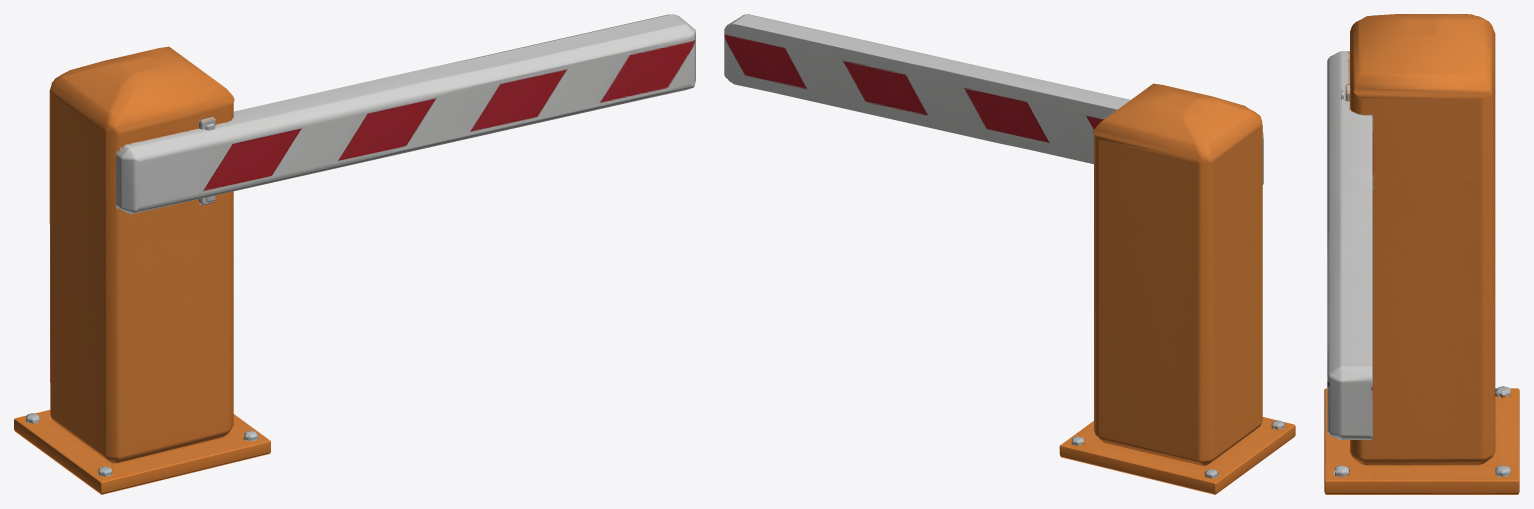
The model's file is selected.glb.
The picture shows the model from 3 angles, left to right: view 1: azimuth 30°, elevation 25°; view 2: azimuth 150°, elevation 25°; view 3: azimuth 270°, elevation 25°; orthographic projection. The views are drawn at different scales.
Visible parts, largest first — view 1: tripo_node_0e736a84-059b-4fe7-8a7d-64259235b593; view 2: tripo_node_0e736a84-059b-4fe7-8a7d-64259235b593; view 3: tripo_node_0e736a84-059b-4fe7-8a7d-64259235b593.
Part boxes in pixels (<box>): tripo_node_0e736a84-059b-4fe7-8a7d-64259235b593: <box>14,14,695,494</box>; tripo_node_0e736a84-059b-4fe7-8a7d-64259235b593: <box>724,14,1295,494</box>; tripo_node_0e736a84-059b-4fe7-8a7d-64259235b593: <box>1324,14,1519,494</box>.
Size of the model in its own units: 0.998 by 0.5996 by 0.252.
1 material, 1 textured.
